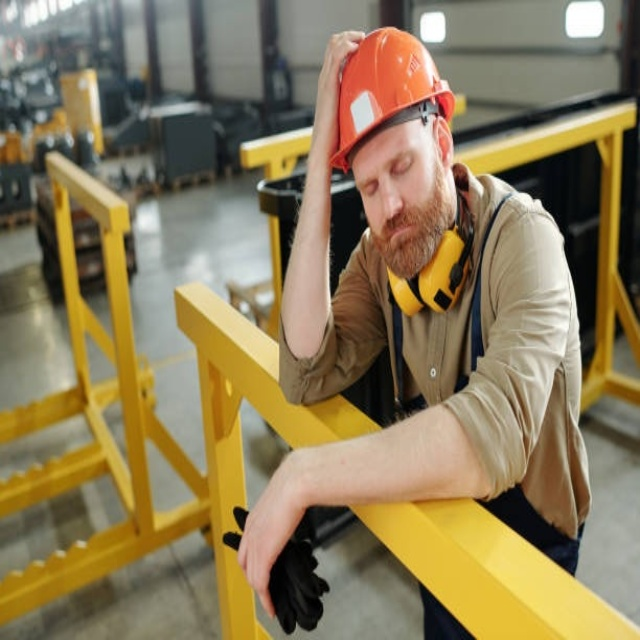Sin_gafas: (356, 133, 425, 204)
Sin_guantes: (233, 466, 311, 624), (308, 22, 368, 151)
Sin_mascara: (375, 209, 425, 265)
